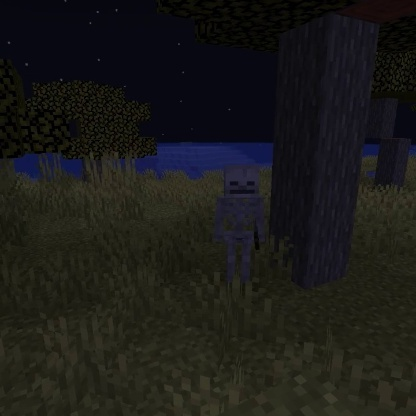skeleton: (210, 161, 270, 291)
